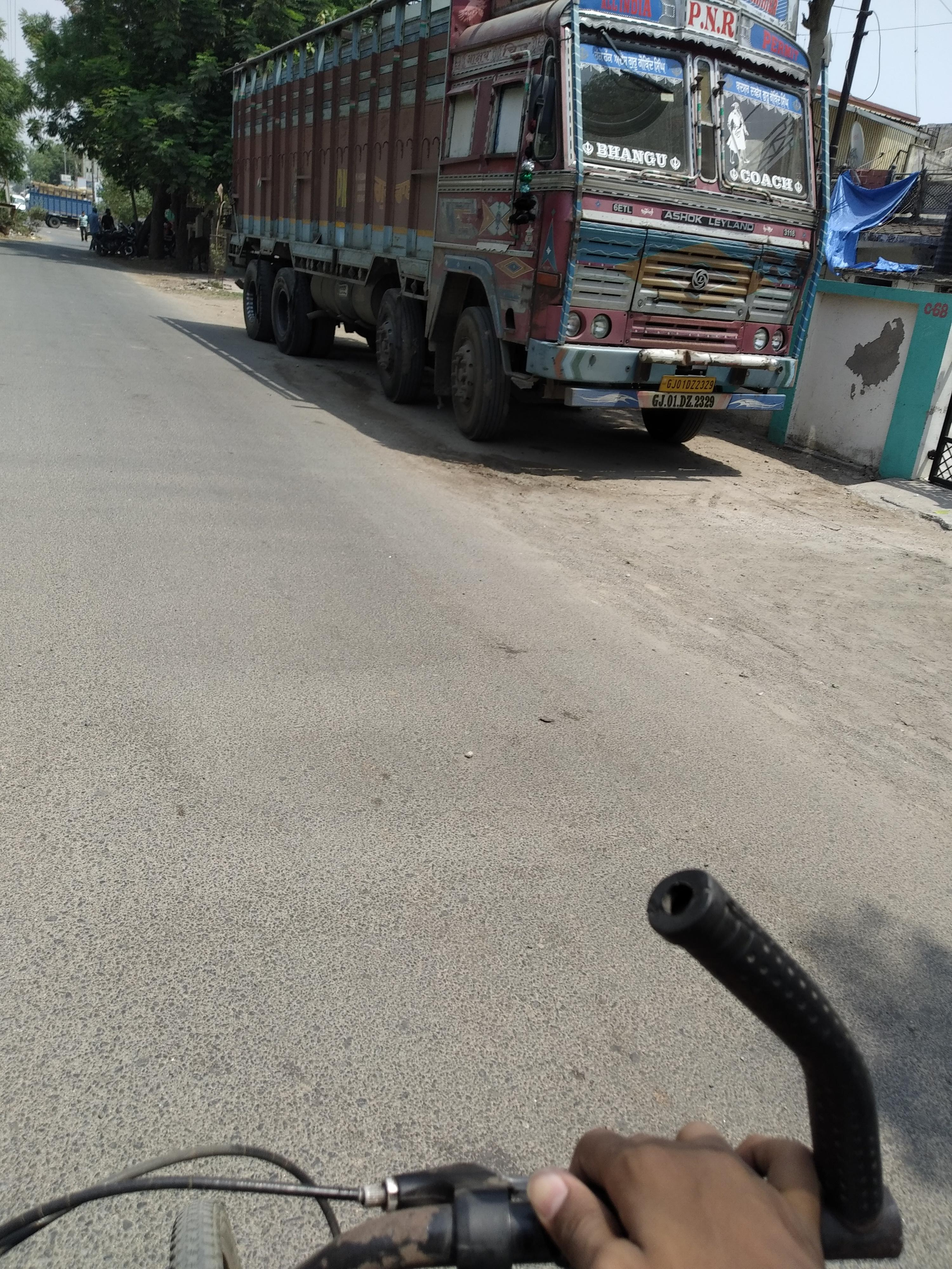Non-emergency: (153, 0, 817, 528)
